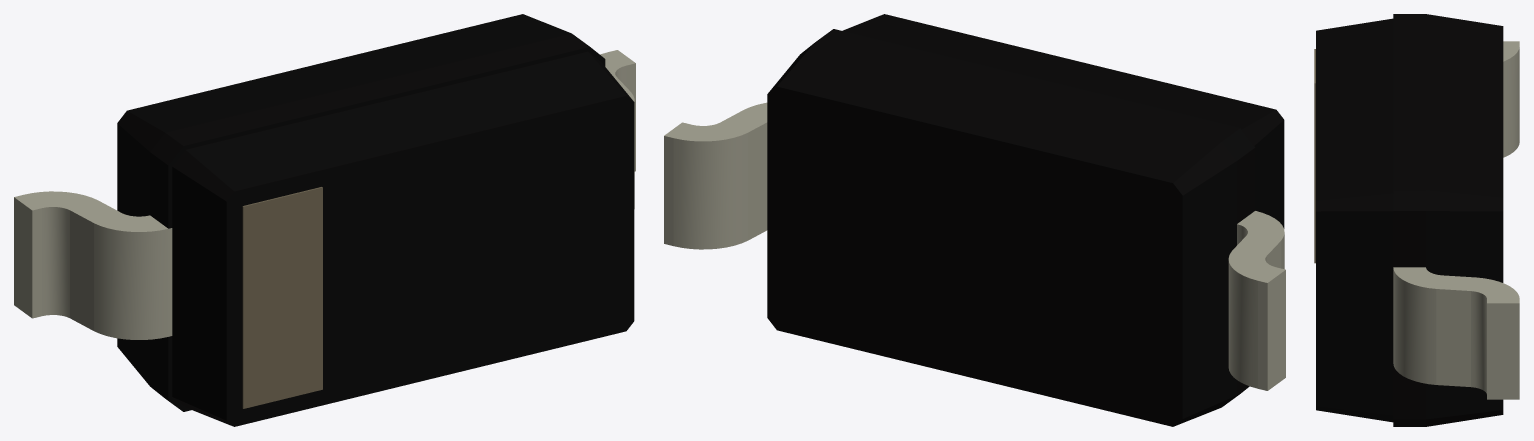
Rendered from d_sod-123.glb.
3 views of the same model, side by side, from view 1: azimuth 30°, elevation 25°; view 2: azimuth 150°, elevation 25°; view 3: azimuth 270°, elevation 25° (orthographic). The views are drawn at different scales.
Visible parts, largest first — view 1: D_SOD-123; view 2: D_SOD-123; view 3: D_SOD-123.
Part boxes in pixels (x1,y1,x2,y2): D_SOD-123: (14, 14, 635, 426); D_SOD-123: (664, 14, 1285, 426); D_SOD-123: (1314, 14, 1519, 426).
Bounding box in the file's own units: 3.8 × 1.6 × 1.26.
